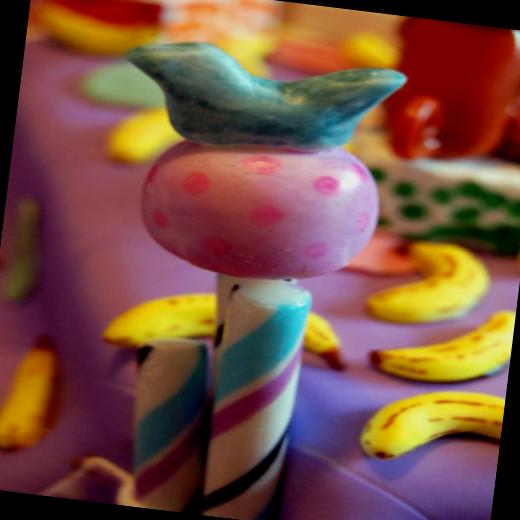Banana: (98, 284, 352, 376), (361, 294, 516, 390), (355, 378, 505, 474), (360, 235, 497, 332), (26, 0, 166, 61), (0, 326, 62, 453), (102, 97, 187, 175)
